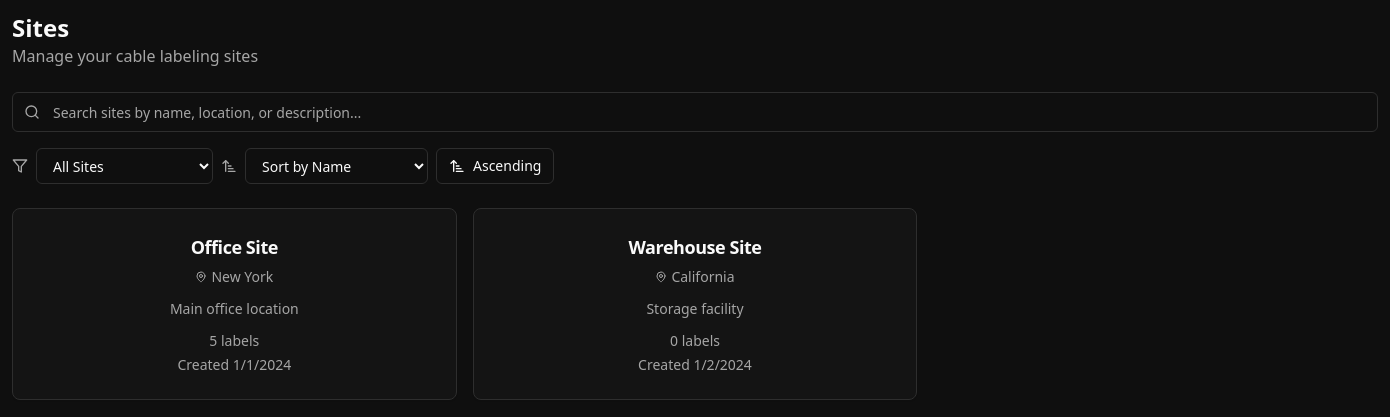
Test: SiteList › should handle filter functionality
Expected: the heading "Office Site" is shown, [191,235,278,259]
Select "Sites with Labels" in the 1st dropdown showing "All Sites" at coordinates (124, 166), box [36,148,213,184]
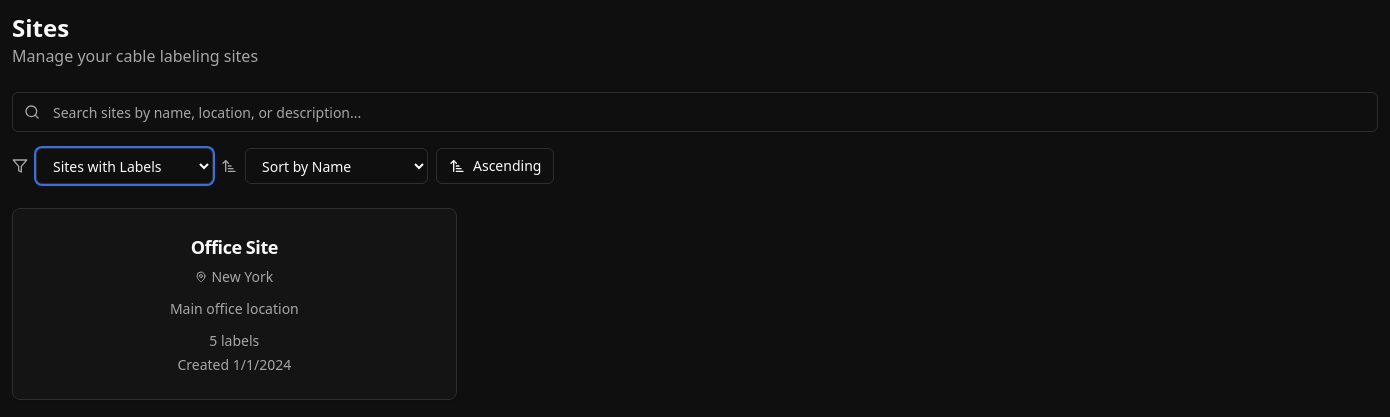
Expected: the heading "Office Site" is shown, [191,235,278,259]
Expected: the heading "Warehouse Site" is gone
